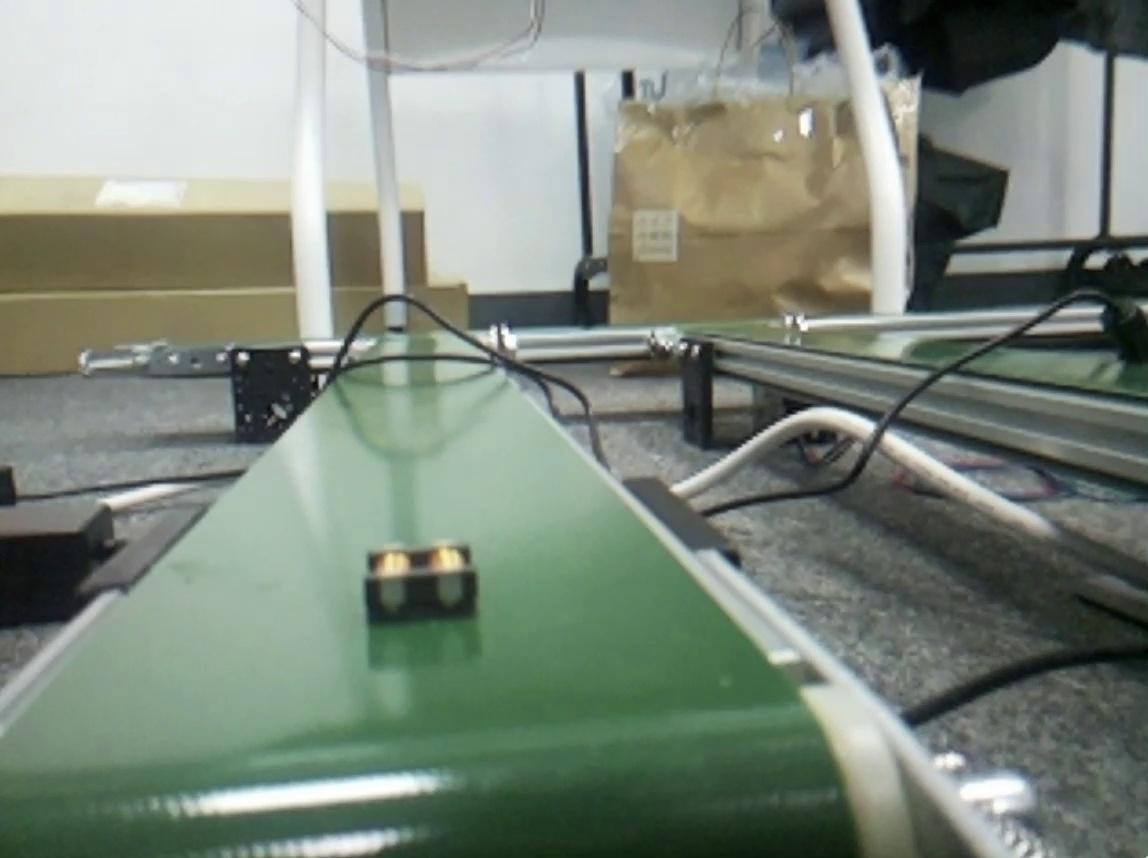inductor: (368, 550, 480, 614)
